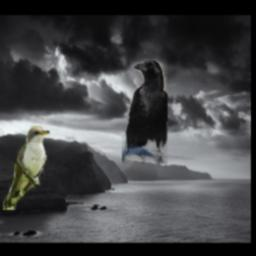Crow: (123, 59, 169, 164)
Cuckoo: (3, 126, 50, 211)
